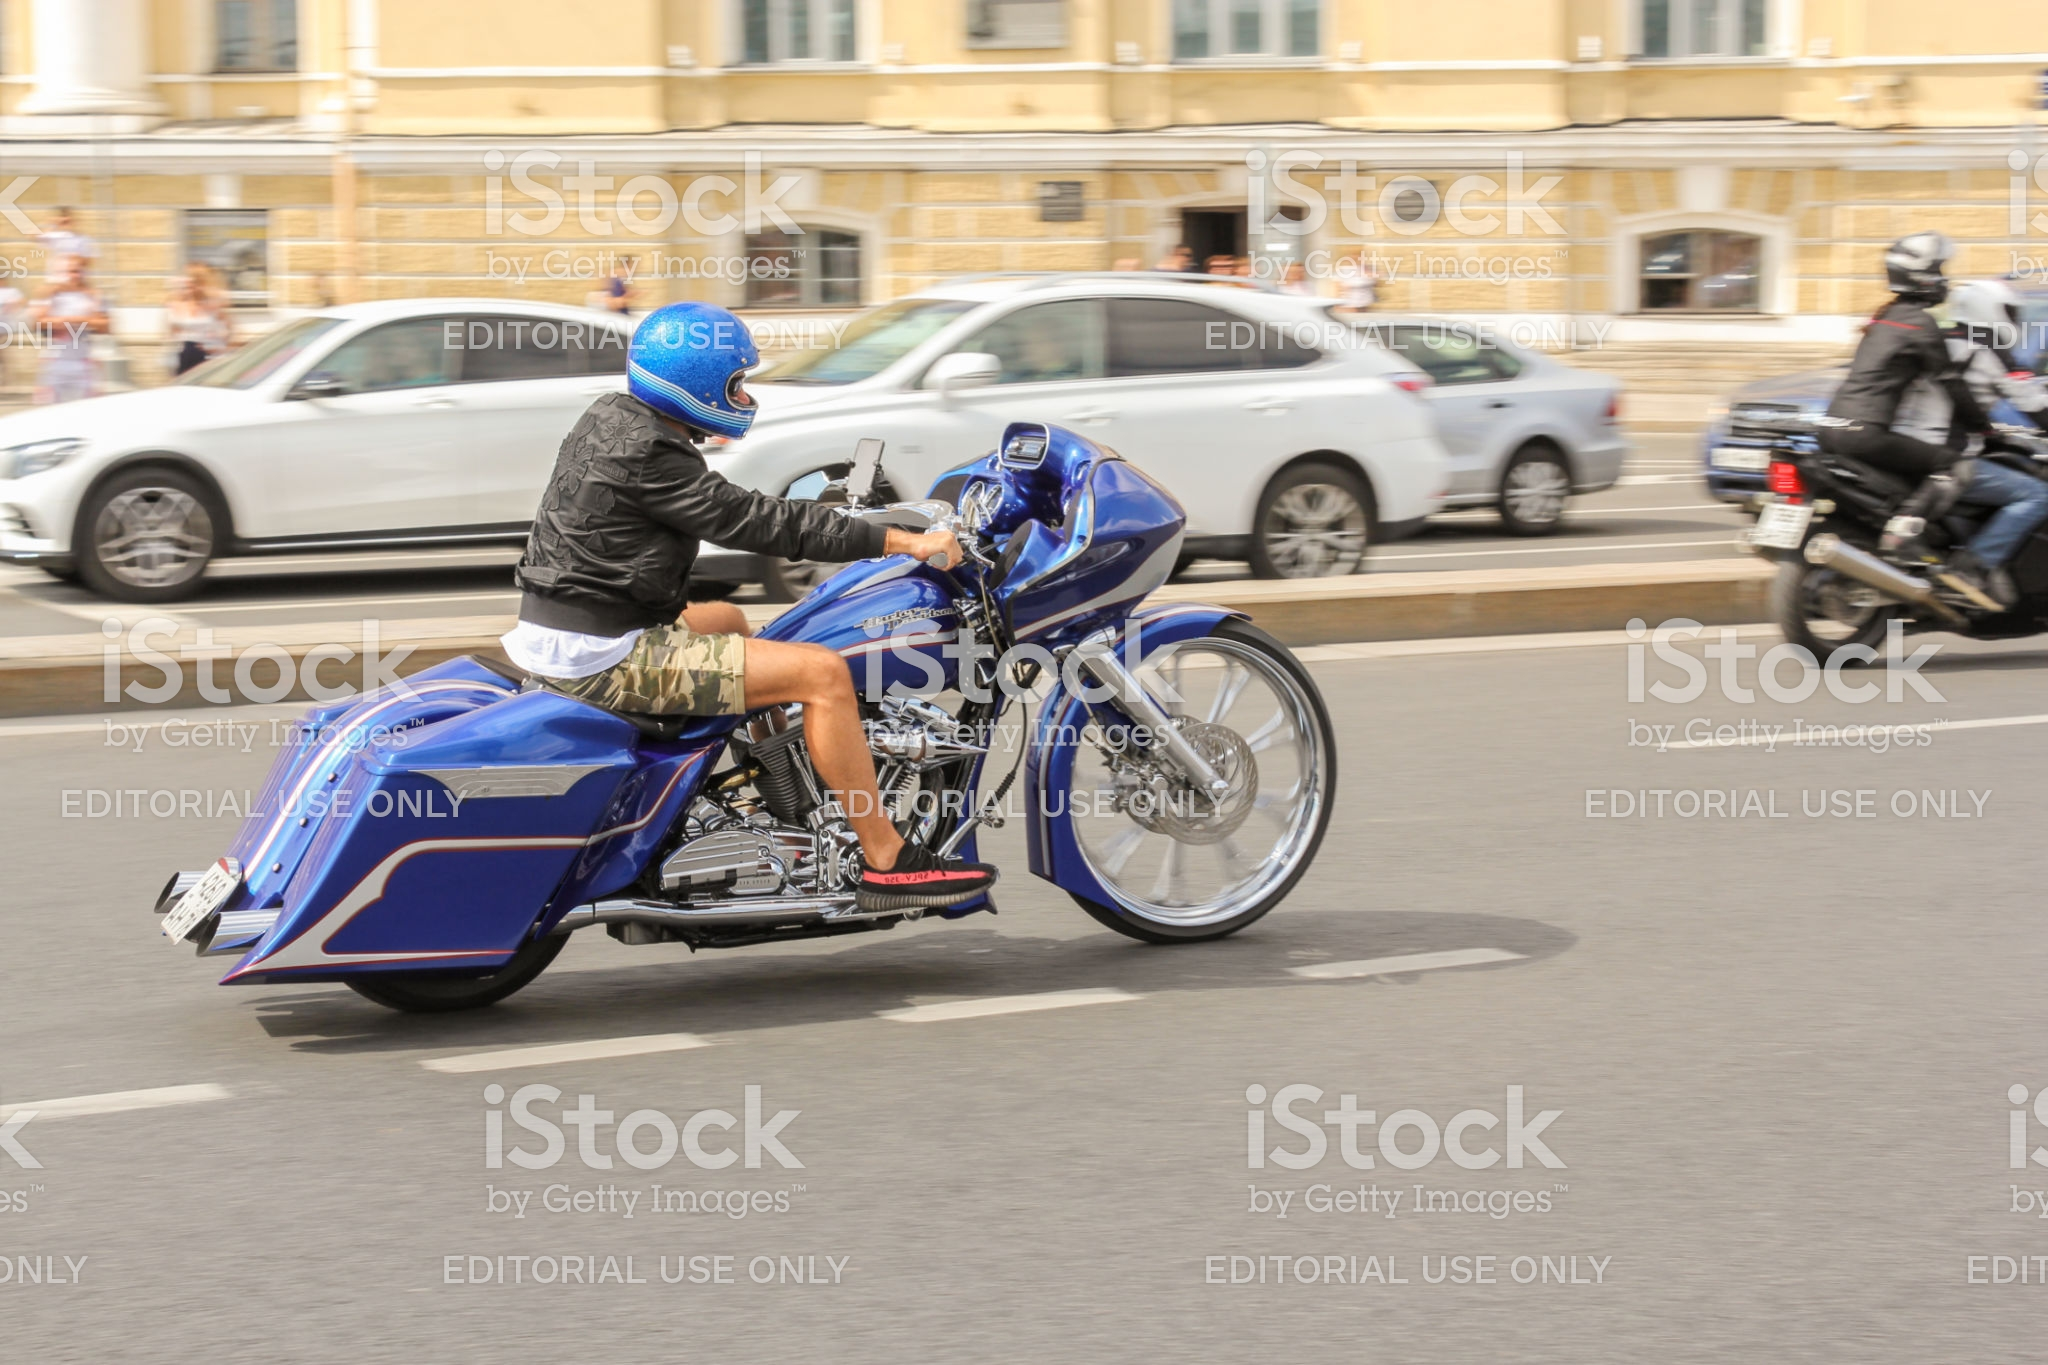helmet: (617, 308, 793, 430)
